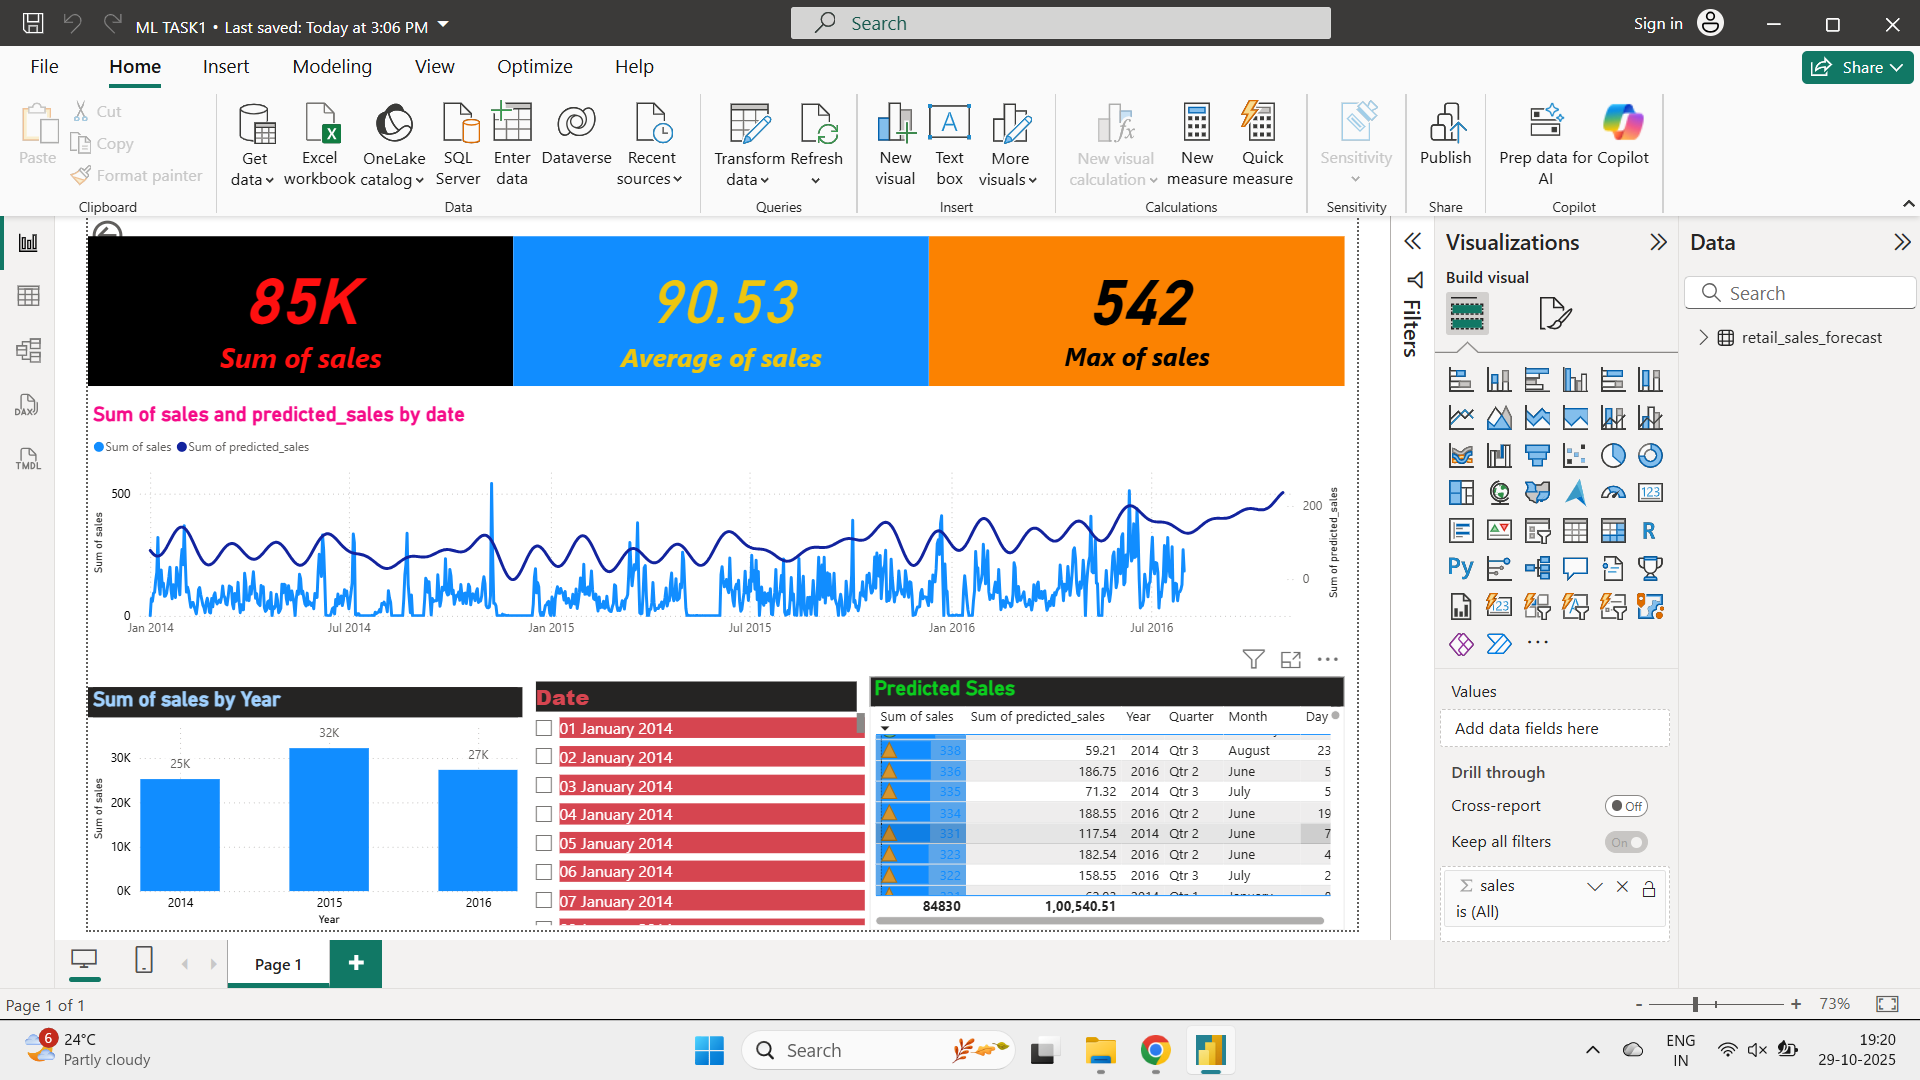

This screenshot's page, from the dashboard's own definition file:
{"tool":"powerbi","page":{"name":"Page 1","canvas":[1280,720],"ordinal":0},"visuals":[{"type":"lineChart","title":"Sum of sales and predicted_sales by date","fields":{"Category":["retail_sales_forecast.date"],"Y":["Sum(retail_sales_forecast.sales)"],"Y2":["Sum(retail_sales_forecast.predicted_sales)"]},"box":[0,188,1268.2,254.7],"z":0},{"type":"lineClusteredColumnComboChart","fields":{"Category":["retail_sales_forecast.date.Variation.Date Hierarchy.Year","retail_sales_forecast.date.Variation.Date Hierarchy.Month"],"Y":["Sum(retail_sales_forecast.sales)"]},"box":[0,475.4,438.6,245.2],"z":1000},{"type":"slicer","fields":{"Values":["retail_sales_forecast.date"]},"box":[438.6,464.5,350.1,256.1],"z":2000},{"type":"tableEx","title":"Predicted Sales","fields":{"Values":["Sum(retail_sales_forecast.sales)","Sum(retail_sales_forecast.predicted_sales)","retail_sales_forecast.date.Variation.Date Hierarchy.Year","retail_sales_forecast.date.Variation.Date Hierarchy.Quarter","retail_sales_forecast.date.Variation.Date Hierarchy.Month","retail_sales_forecast.date.Variation.Date Hierarchy.Day"]},"box":[788.7,464.5,479.5,256.1],"z":3000},{"type":"actionButton","box":[0,0,100,40],"z":4000},{"type":"card","fields":{"Values":["Sum(retail_sales_forecast.sales)"]},"box":[0,20.4,429.1,151.2],"z":6000},{"type":"card","fields":{"Values":["Avg(retail_sales_forecast.sales)"]},"box":[429.1,20.4,419.5,151.2],"z":7000},{"type":"card","fields":{"Values":["Max(retail_sales_forecast.sales)"]},"box":[848.6,20.4,419.5,151.2],"z":8000}]}

Visuals, with their boxes on the page's 1280x720 design canvas (x1, y1, x2, y2). These are canvas units, not pixel positions in the 1920x1080 screenshot, which may show the page scaled, cropped or inside an application window:
"Sum of sales and predicted_sales by date" lineChart: select_region(0, 188, 1268, 443)
lineClusteredColumnComboChart - retail_sales_forecast.date.Variation.Date Hierarchy.Year x retail_sales_forecast.date.Variation.Date Hierarchy.Month: select_region(0, 475, 439, 721)
slicer - retail_sales_forecast.date: select_region(439, 464, 789, 721)
"Predicted Sales" tableEx: select_region(789, 464, 1268, 721)
actionButton: select_region(0, 0, 100, 40)
card - Sum(retail_sales_forecast.sales): select_region(0, 20, 429, 172)
card - Avg(retail_sales_forecast.sales): select_region(429, 20, 849, 172)
card - Max(retail_sales_forecast.sales): select_region(849, 20, 1268, 172)
